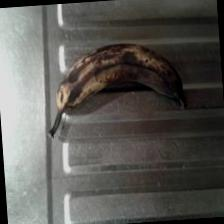Banana Rotten: (48, 46, 200, 122)
